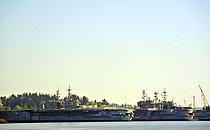MIL_Ship: (11, 84, 133, 123)
